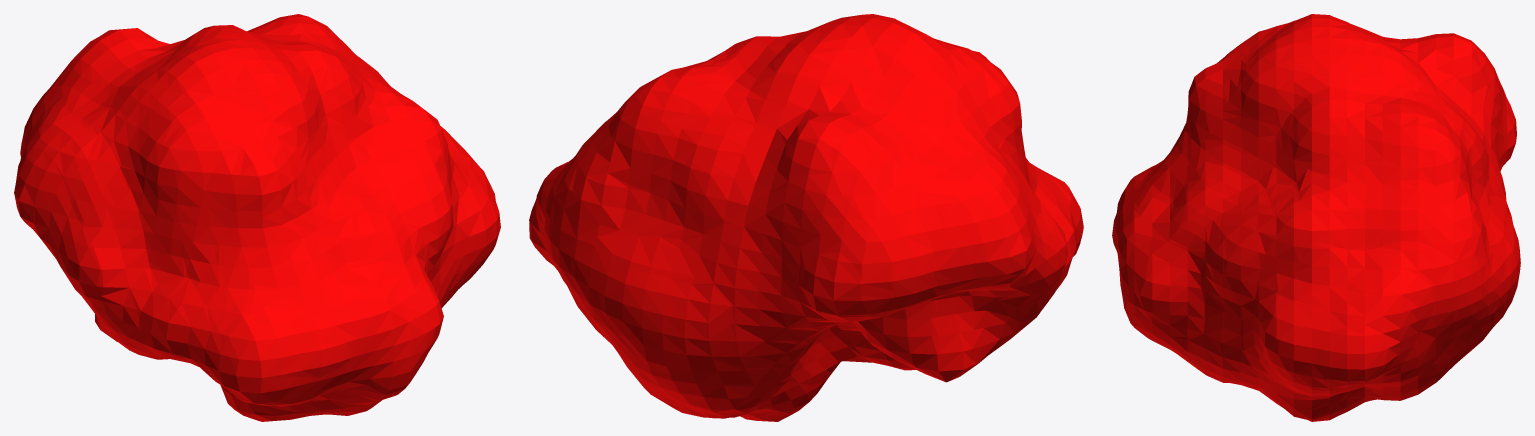
Rendered from nfo_coarse.dae.
3 views of the same model, side by side, from view 1: azimuth 30°, elevation 25°; view 2: azimuth 150°, elevation 25°; view 3: azimuth 270°, elevation 25° (orthographic). The views are drawn at different scales.
Visible parts, largest first — view 1: nfo; view 2: nfo; view 3: nfo.
Boxes of the visible parts, left/top/right/bottom form: nfo: left=14, top=14, right=500, bottom=421; nfo: left=529, top=14, right=1083, bottom=421; nfo: left=1112, top=14, right=1520, bottom=421.
Bounding box in the file's own units: 60.44 × 48.11 × 50.91.
